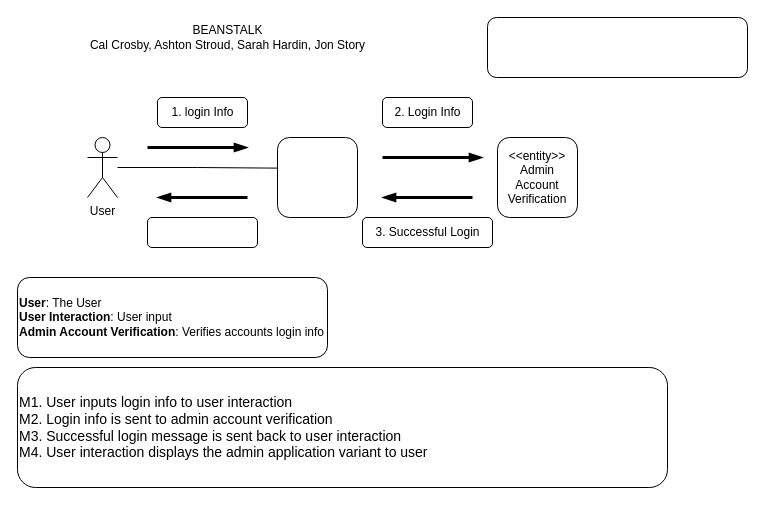
The diagram is 765 pixels wide and 505 high, and some of its shapes have lost their labels. Each missing label, with the centre of its shape:
4. Allow Access: the point at 202,232
<<user interaction>> User Interaction: the point at 317,177
Login Interaction Diagram: the point at 617,47
